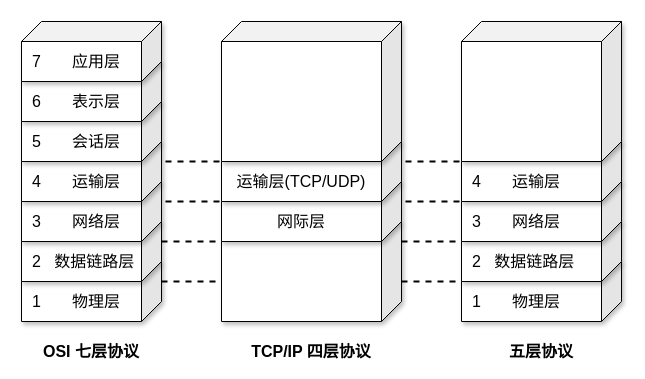
Image size: 645x379. Some labels were removed from this diagram. The centre of each missing label's shape, as x and y in pixels:
"5 应用层" belongs at (x=542, y=92).
"应用层 (各种应用层协议)" belongs at (x=312, y=92).
"网络接口层" belongs at (x=312, y=272).
